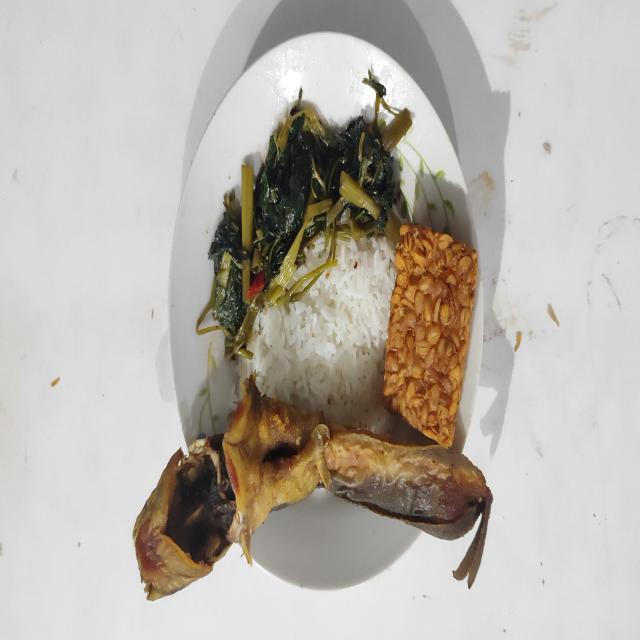nasi_putih: (236, 237, 404, 434)
tempe_goreng: (382, 225, 478, 448)
tumis_kangkung: (196, 68, 412, 360)
